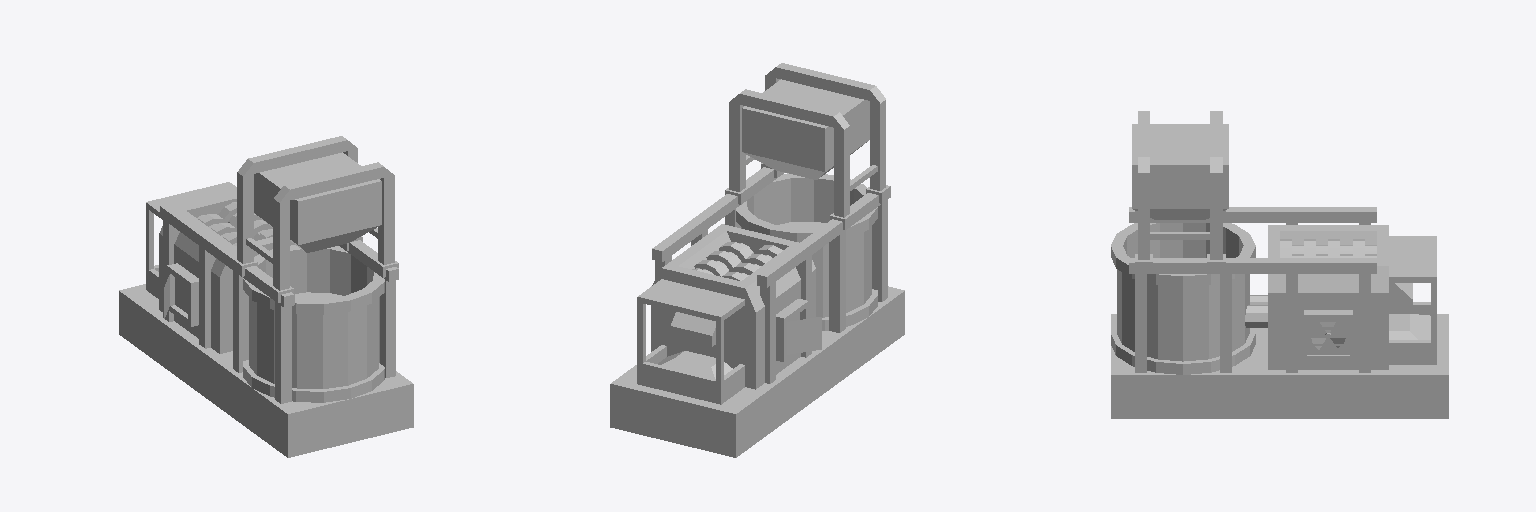
File: ore_slopper.obj
The picture shows the model from 3 angles: view 1: azimuth 30°, elevation 25°; view 2: azimuth 150°, elevation 25°; view 3: azimuth 270°, elevation 25°; orthographic projection.
Visible parts, largest first — view 1: Base, Slider, BladesLeft, BladesRight; view 2: Base, Slider, BladesLeft, BladesRight; view 3: Base, Slider, BladesRight.
Boxes of the visible parts, <box> form: Base: <box>119,182,413,457</box>; Slider: <box>233,136,398,302</box>; BladesLeft: <box>218,202,272,240</box>; BladesRight: <box>197,214,236,245</box>; Base: <box>610,167,904,457</box>; Slider: <box>725,63,890,229</box>; BladesLeft: <box>692,242,753,276</box>; BladesRight: <box>722,245,782,280</box>; Base: <box>1111,207,1448,418</box>; Slider: <box>1132,111,1228,271</box>; BladesRight: <box>1280,239,1376,257</box>.
Size of the model in its own units: 3.48 by 5.81 by 7.